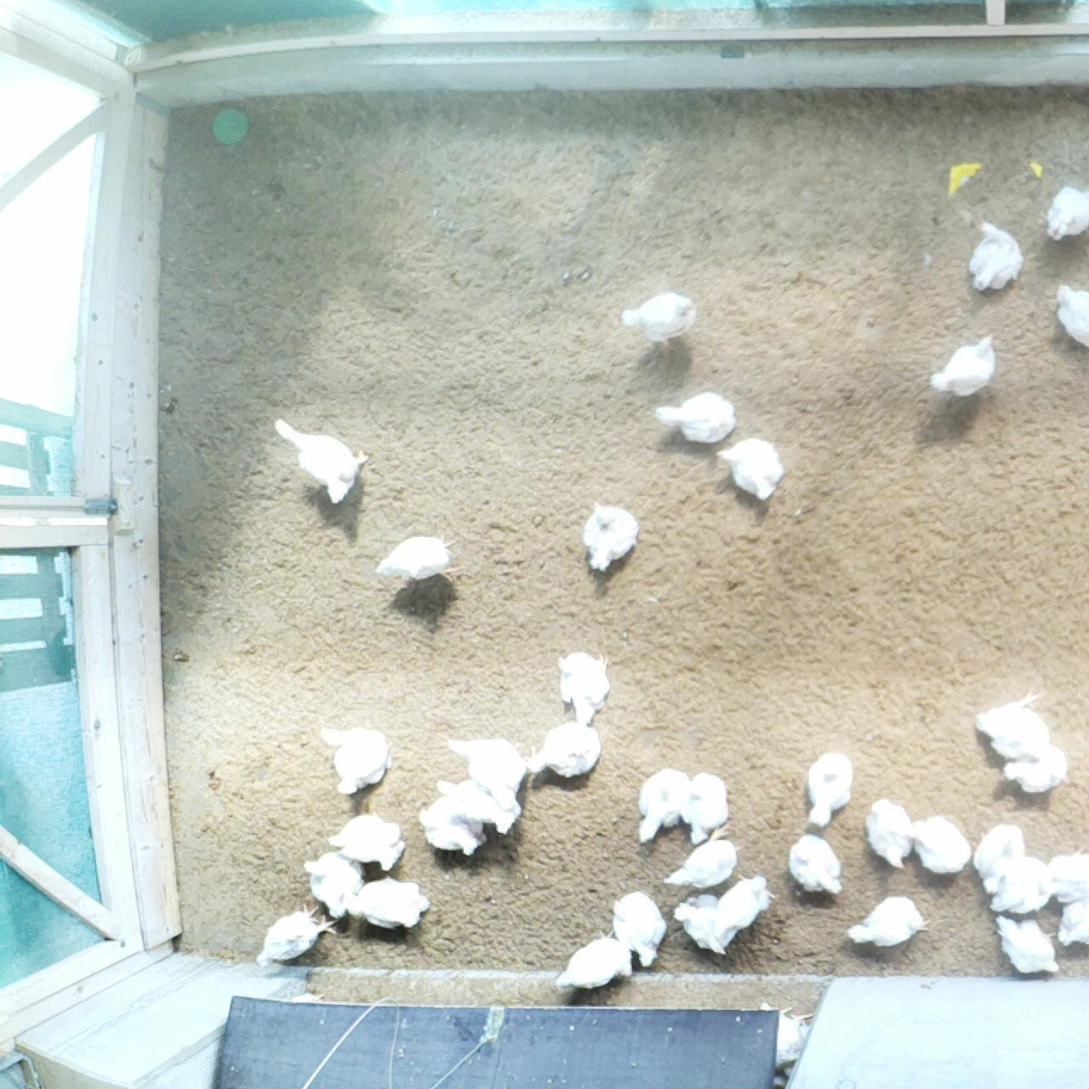chicken: (269, 410, 375, 509), (436, 729, 530, 818), (314, 711, 401, 797), (886, 805, 974, 883), (248, 898, 341, 970), (433, 773, 530, 838), (340, 868, 435, 934), (609, 879, 673, 975), (617, 288, 706, 356), (524, 712, 605, 786), (971, 685, 1054, 757), (324, 805, 412, 872), (926, 330, 1003, 404), (650, 384, 741, 446), (548, 644, 615, 728), (581, 493, 642, 585), (300, 845, 370, 925), (550, 926, 635, 991), (372, 529, 466, 587), (708, 433, 788, 500), (847, 890, 936, 950), (959, 217, 1026, 296), (663, 824, 742, 891), (634, 760, 689, 850), (989, 915, 1065, 980), (671, 888, 737, 959), (802, 747, 858, 830), (674, 766, 734, 841), (858, 793, 914, 873), (787, 830, 850, 901), (988, 852, 1054, 919), (410, 798, 485, 856), (711, 872, 775, 935), (997, 743, 1076, 794), (971, 818, 1027, 888), (1047, 274, 1089, 356), (1035, 845, 1089, 906), (1040, 180, 1089, 245), (1053, 892, 1089, 951)
